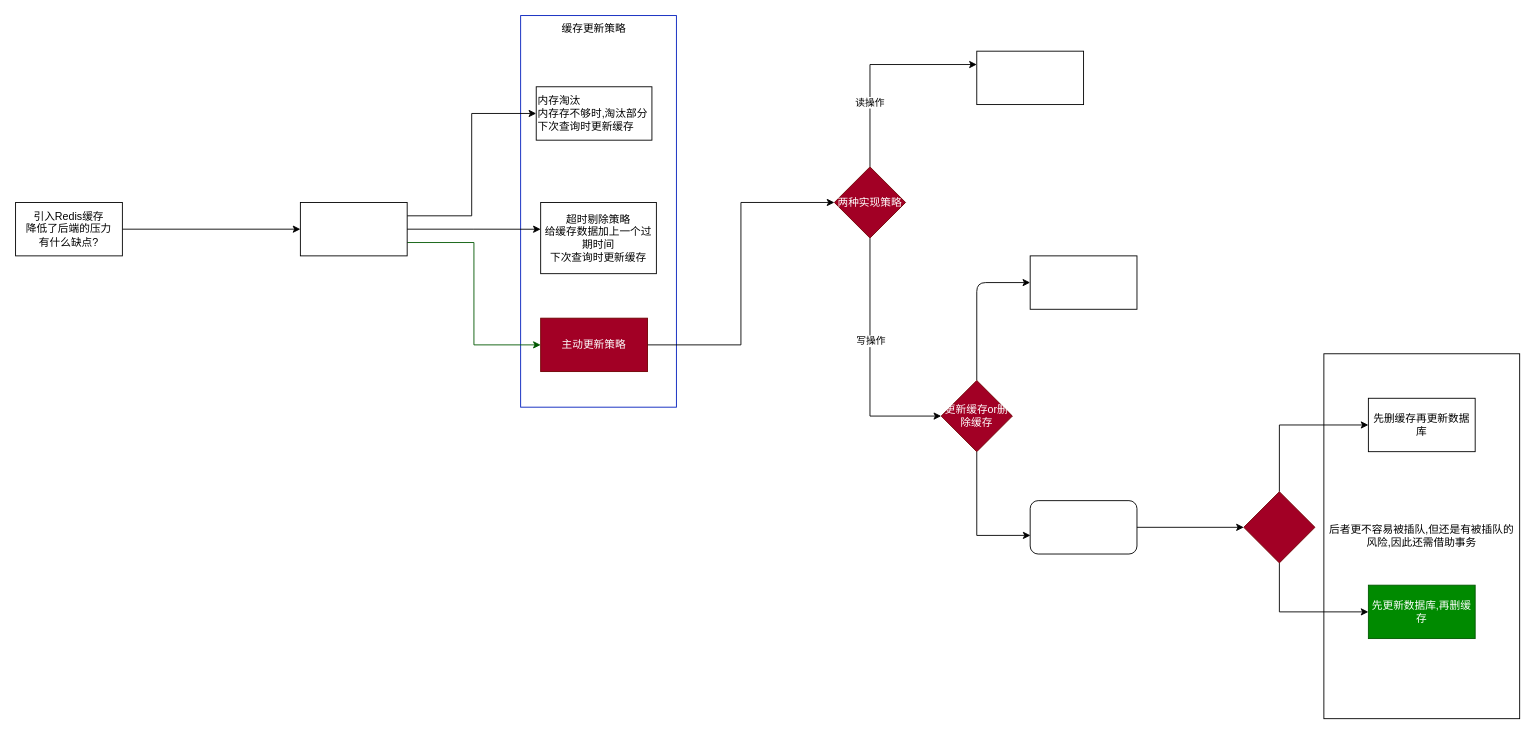
Some shapes in this 1535 by 734 pixel diagram are drawn without their labels. Here are the shapes that lost their labels. From the top down, the centre of each, then its label:
(1030,77): 从数据库读取后,再往缓存中去写
(353,229): 缓存和数据库中数据不同步
(1083,282): 更新缓存,反而没啥用,更新了,有时候还不能及时用,很浪费资源
(1083,527): 删除缓存,等查询的时候,再写入(不做无用功)
(1279,527): 先数据库or先缓存
